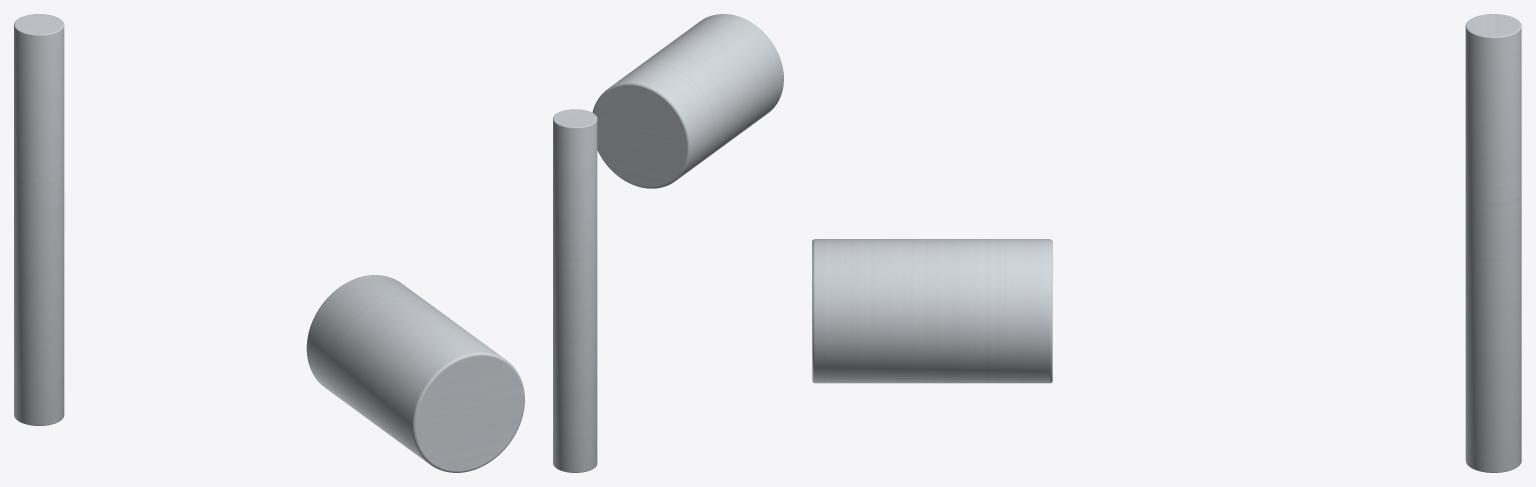
Rendered from caster_swivel_link_aluminium.obj.
The picture shows the model from 3 angles, left to right: view 1: azimuth 30°, elevation 25°; view 2: azimuth 150°, elevation 25°; view 3: azimuth 270°, elevation 25°; orthographic projection. The views are drawn at different scales.
Visible parts, largest first — view 1: caster_swivel_link__swivel_shaft, caster_swivel_link__caster_axle; view 2: caster_swivel_link__swivel_shaft, caster_swivel_link__caster_axle; view 3: caster_swivel_link__swivel_shaft, caster_swivel_link__caster_axle.
Boxes of the visible parts, <box> form: caster_swivel_link__swivel_shaft: <box>306,275,524,472</box>; caster_swivel_link__caster_axle: <box>14,14,64,425</box>; caster_swivel_link__swivel_shaft: <box>592,14,783,188</box>; caster_swivel_link__caster_axle: <box>553,109,597,472</box>; caster_swivel_link__swivel_shaft: <box>812,239,1052,383</box>; caster_swivel_link__caster_axle: <box>1465,14,1521,472</box>.
Bounding box in the file's own units: 0.0325 × 0.06 × 0.0885.
1 material, 1 textured.
